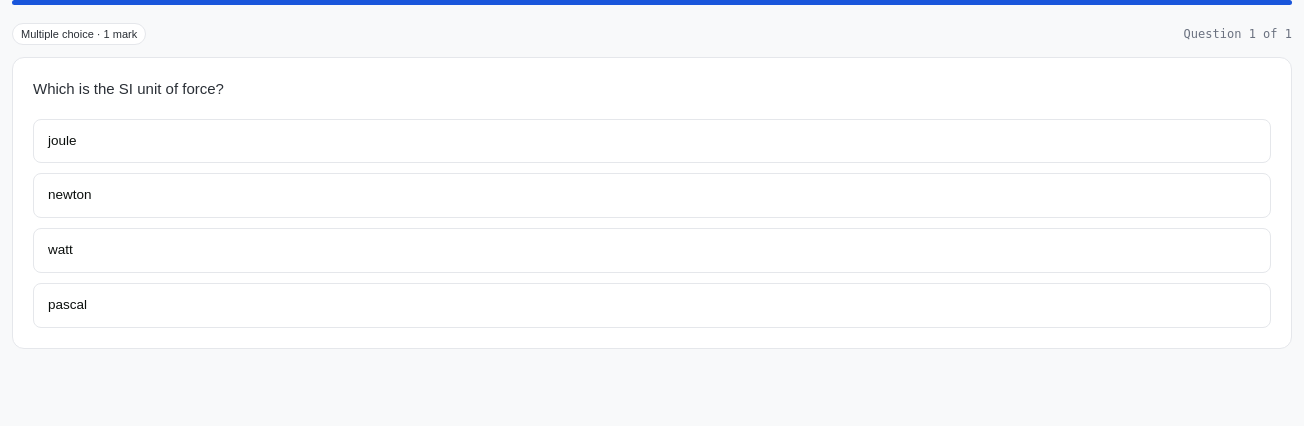
unsaved results go to the outbox and are retried (FR-008, FR-009) › keeps the receipt, shows the mark at once, and removes it when the retry succeeds
This screenshot has width=1304, height=426.
Click the button "newton": (70, 195) [33,173,1271,218]
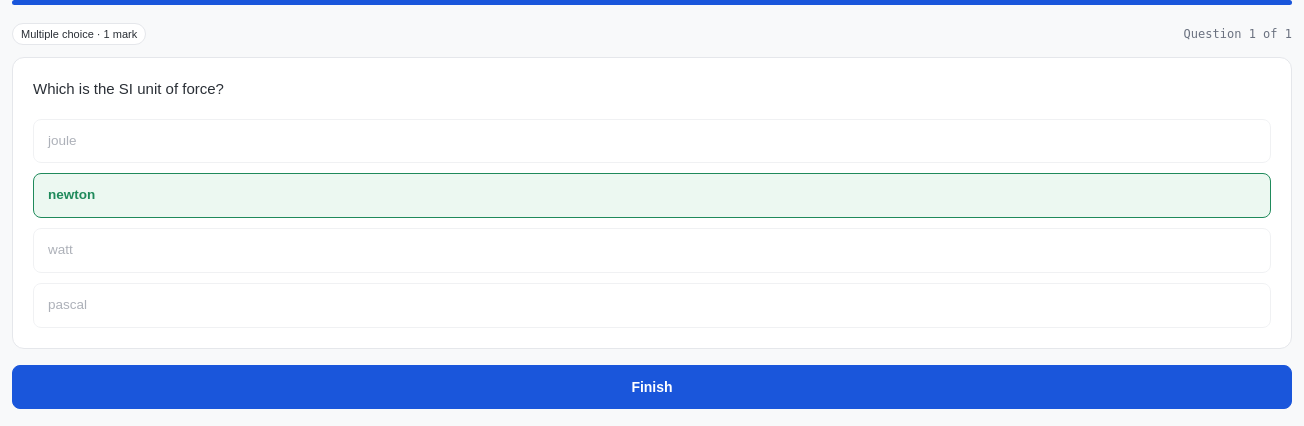
Check: the button "Finish" is shown, box [12,365,1292,409]
